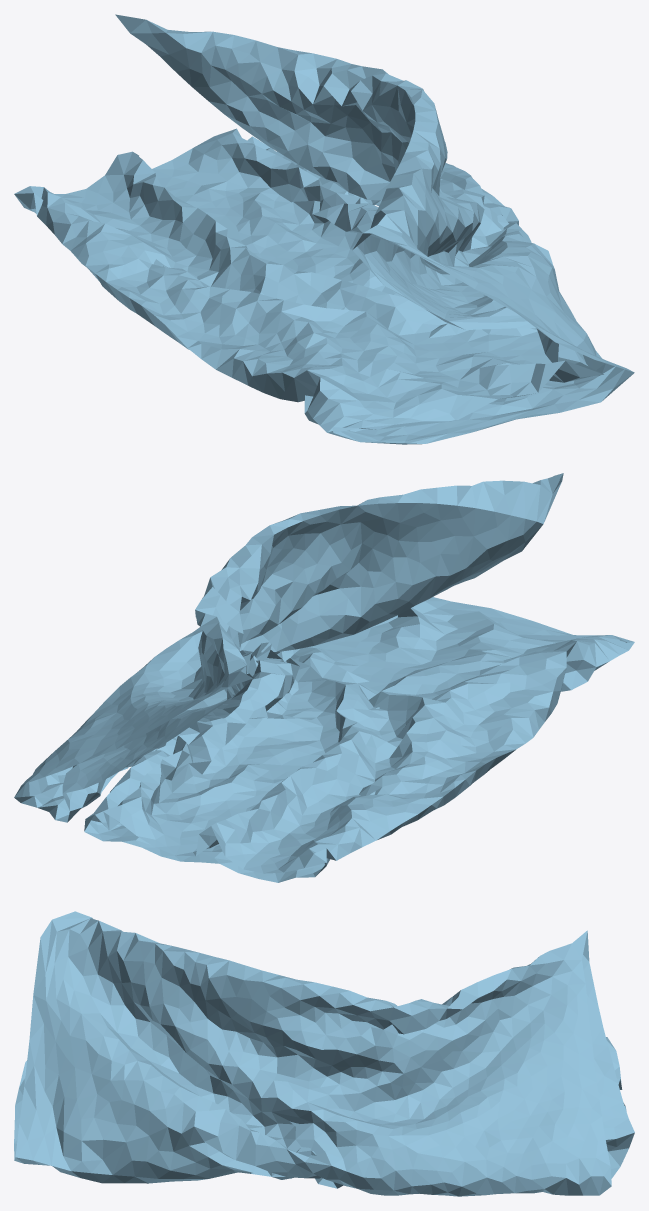
File: frame_16.glb
The picture shows the model from 3 angles, top to bottom: view 1: azimuth 30°, elevation 25°; view 2: azimuth 150°, elevation 25°; view 3: azimuth 270°, elevation 25°; orthographic projection. The views are drawn at different scales.
Visible parts, largest first — view 1: frame_16.obj; view 2: frame_16.obj; view 3: frame_16.obj.
Part boxes in pixels (<box>): frame_16.obj: <box>14,14,634,444</box>; frame_16.obj: <box>14,473,634,882</box>; frame_16.obj: <box>14,911,634,1196</box>.
Bounding box in the file's own units: 0.8857 × 0.4974 × 1.5.
